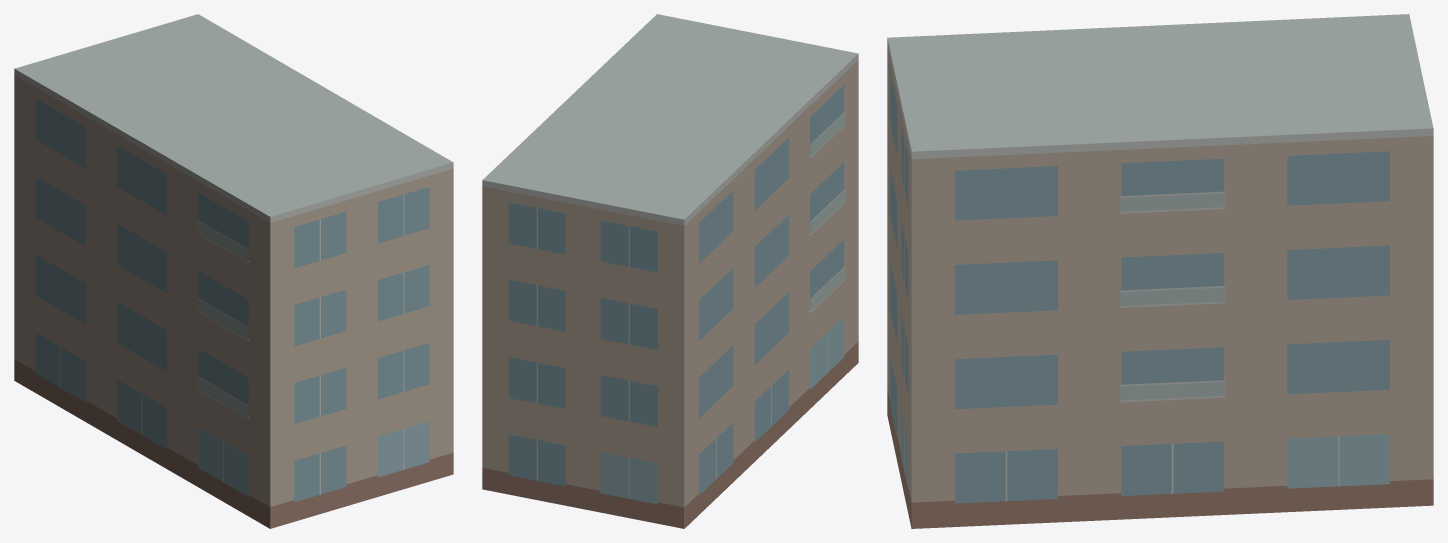
File: survey-upis-32981563.glb
3 renders of one model, left to right at view 1: azimuth 30°, elevation 25°; view 2: azimuth 150°, elevation 25°; view 3: azimuth 270°, elevation 25°, orthographic. The views are drawn at different scales.
Visible parts, largest first — view 1: survey-upis-32981563.tmp; view 2: survey-upis-32981563.tmp; view 3: survey-upis-32981563.tmp.
Boxes of the visible parts, x1,y1,x2,y2 form: survey-upis-32981563.tmp: (14, 14, 453, 528); survey-upis-32981563.tmp: (482, 14, 858, 528); survey-upis-32981563.tmp: (887, 14, 1433, 528).
Size of the model in its own units: 9.56 by 12.2 by 16.02.
